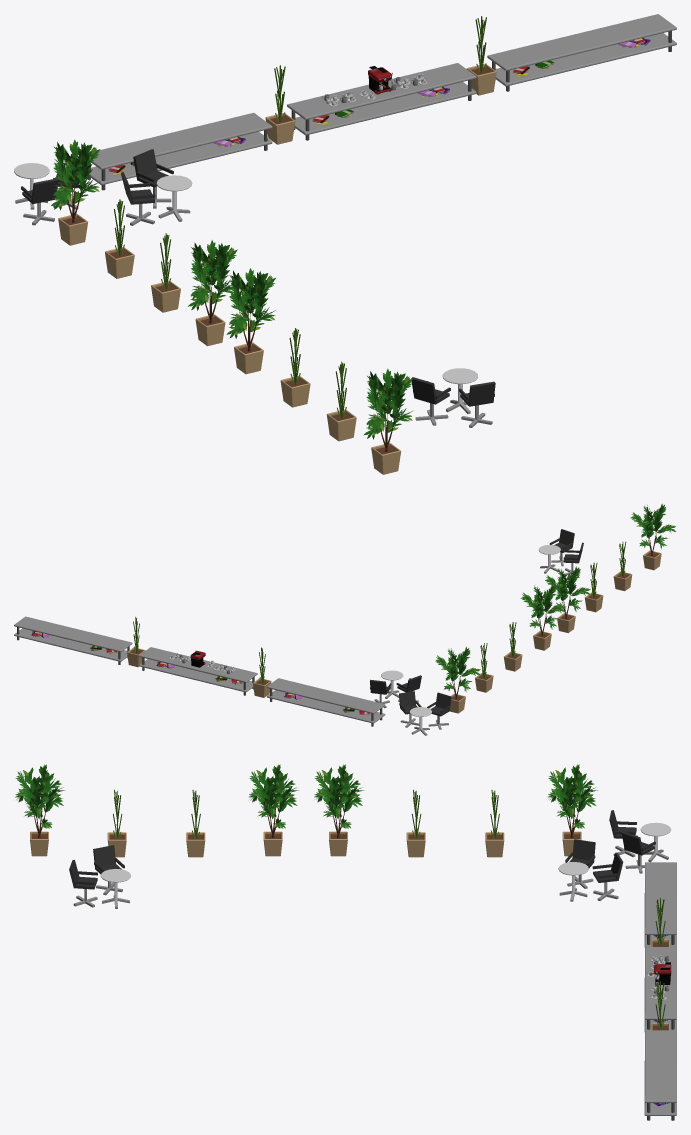
Rendered from d-roomcomp-d-itdepartment-in.glb.
The picture shows the model from 3 angles, top to bottom: view 1: azimuth 30°, elevation 25°; view 2: azimuth 150°, elevation 25°; view 3: azimuth 270°, elevation 25°; orthographic projection. The views are drawn at different scales.
Visible parts, largest first — view 1: drawer-flat.011, drawer-flat.010, drawer-flat.012, plantBushyFernyBig.010, plantBushyFernyBig.014, plantBushyFernyBig.013, plantBushyFernyBig.011, table_chair.020, table_chair.019, table_chair.017, coffeMachineSetupTableCupsMilkCan.003, plantLongBig.013 (+5 smaller); view 2: drawer-flat.010, drawer-flat.011, drawer-flat.012, plantBushyFernyBig.011, table_chair.017, plantBushyFernyBig.014, plantBushyFernyBig.013, plantBushyFernyBig.010, table_chair.019, table_chair.020, coffeMachineSetupTableCupsMilkCan.003, plantLongBig.015 (+5 smaller); view 3: drawer-flat.011, drawer-flat.010, plantBushyFernyBig.011, plantBushyFernyBig.014, plantBushyFernyBig.013, plantBushyFernyBig.010, table_chair.020, table_chair.019, drawer-flat.012, table_chair.017, plantLongBig.012, plantLongBig.014 (+3 smaller).
Boxes of the visible parts, x1,y1,x2,y2 form: drawer-flat.011: (487,14,676,91); drawer-flat.010: (87,112,272,190); drawer-flat.012: (287,63,476,140); plantBushyFernyBig.010: (51,139,100,245); plantBushyFernyBig.014: (363,368,413,474); plantBushyFernyBig.013: (226,268,275,374); plantBushyFernyBig.011: (188,240,237,346); table_chair.020: (121,149,192,225); table_chair.019: (411,368,495,427); table_chair.017: (14,163,80,225); coffeMachineSetupTableCupsMilkCan.003: (322,66,427,106); plantLongBig.013: (151,233,180,312); drawer-flat.010: (267,678,385,726); drawer-flat.011: (14,616,132,664); drawer-flat.012: (139,647,257,695); plantBushyFernyBig.011: (520,584,566,650); table_chair.017: (399,691,451,735); plantBushyFernyBig.014: (630,503,676,570); plantBushyFernyBig.013: (545,566,590,633); plantBushyFernyBig.010: (435,646,480,713); table_chair.019: (538,529,583,576); table_chair.020: (370,670,421,708); coffeMachineSetupTableCupsMilkCan.003: (169,650,235,674); plantLongBig.015: (613,541,632,591); drawer-flat.011: (644,1030,676,1120); drawer-flat.010: (644,862,676,947); plantBushyFernyBig.011: (314,764,364,856); plantBushyFernyBig.014: (15,764,65,856); plantBushyFernyBig.013: (249,764,298,856); plantBushyFernyBig.010: (548,764,597,856); table_chair.020: (558,839,623,901); table_chair.019: (69,845,130,908); drawer-flat.012: (644,947,676,1031); table_chair.017: (609,810,671,873); plantLongBig.012: (485,790,504,857); plantLongBig.014: (186,790,205,857).
Bounding box in the file's own units: 22 × 3.09 × 21.96.
Materials: 2 (1 with a texture image).
